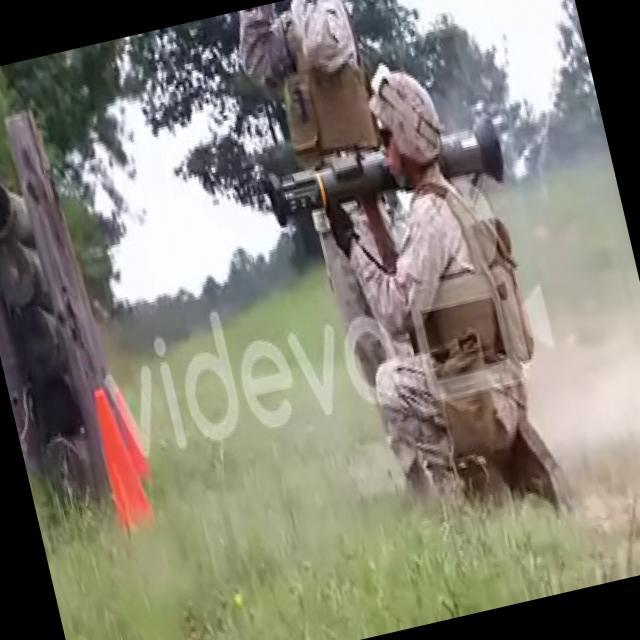rocket: (260, 116, 504, 236)
